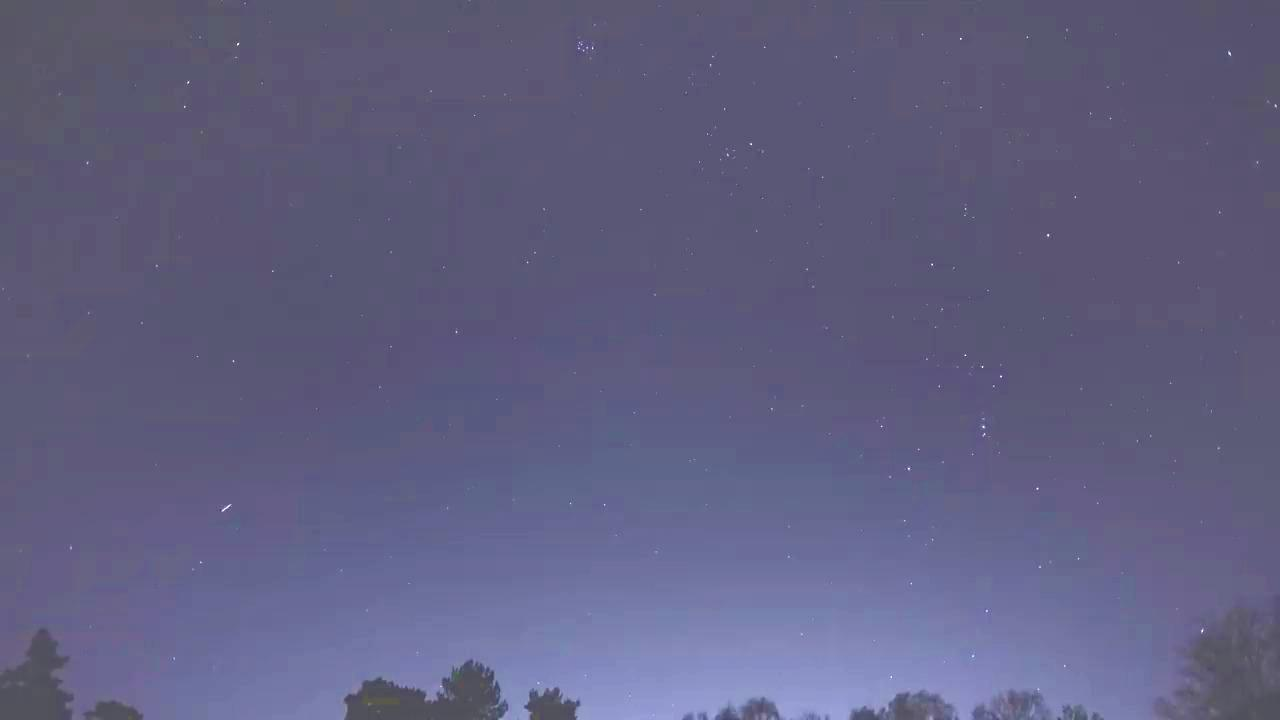meteorite: (208, 497, 245, 517)
